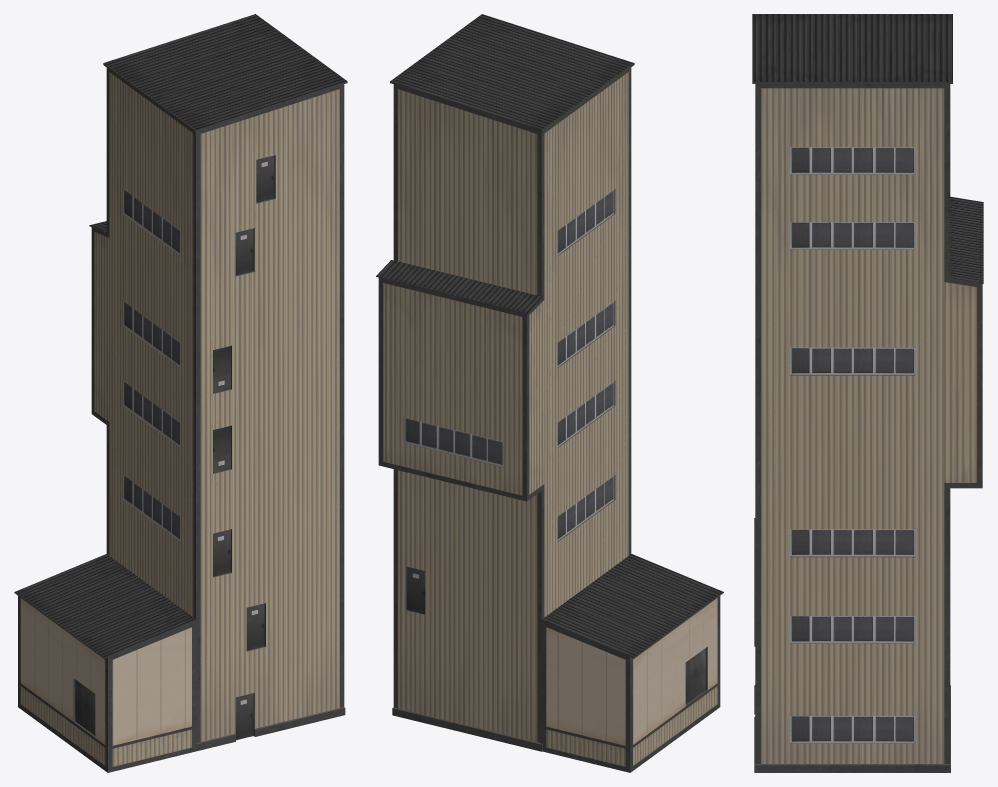
The model's file is plant-building29.glb.
3 views of the same model, side by side, from view 1: azimuth 30°, elevation 25°; view 2: azimuth 150°, elevation 25°; view 3: azimuth 270°, elevation 25° (orthographic). The views are drawn at different scales.
Parts seen in each view (by area): view 1: Object8935292; view 2: Object8935292; view 3: Object8935292.
Boxes of the visible parts, bbox=[...] form: Object8935292: bbox=[14, 14, 347, 772]; Object8935292: bbox=[376, 14, 723, 772]; Object8935292: bbox=[752, 14, 983, 772].
Size of the model in its own units: 13.22 by 33 by 10.
Materials: 1 (1 with a texture image).
